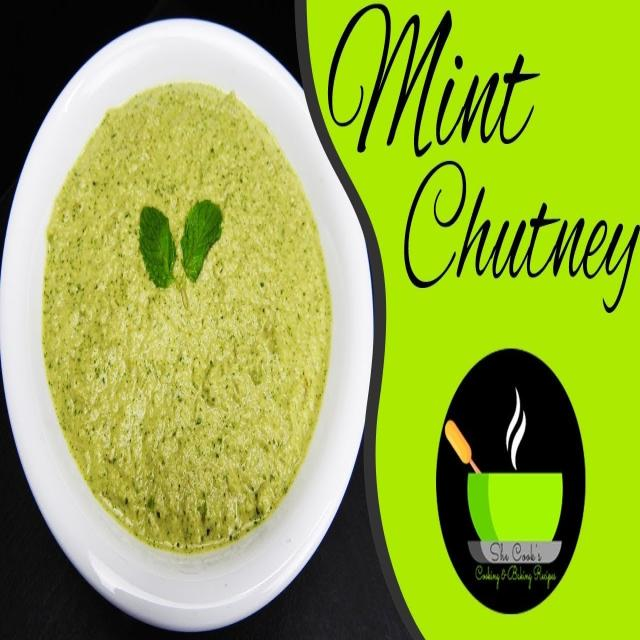puthina chutney: (35, 72, 345, 576)
